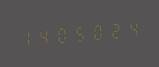five: (71, 20, 88, 46)
four: (35, 23, 52, 49), (125, 16, 142, 41)
one: (17, 25, 34, 50)
two: (107, 17, 124, 43)
zero: (53, 22, 70, 47), (89, 19, 106, 44)
